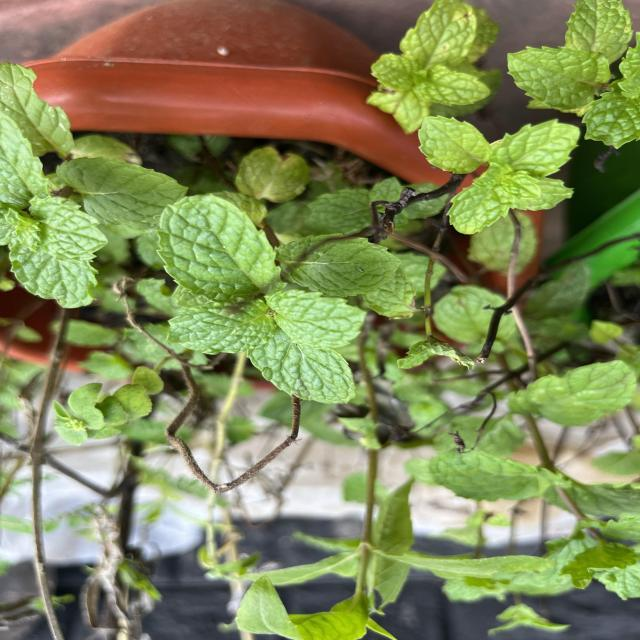Mentha spicata: (155, 192, 288, 302), (246, 342, 359, 404), (165, 300, 279, 356), (487, 118, 581, 177), (417, 114, 491, 175), (445, 184, 510, 236)
